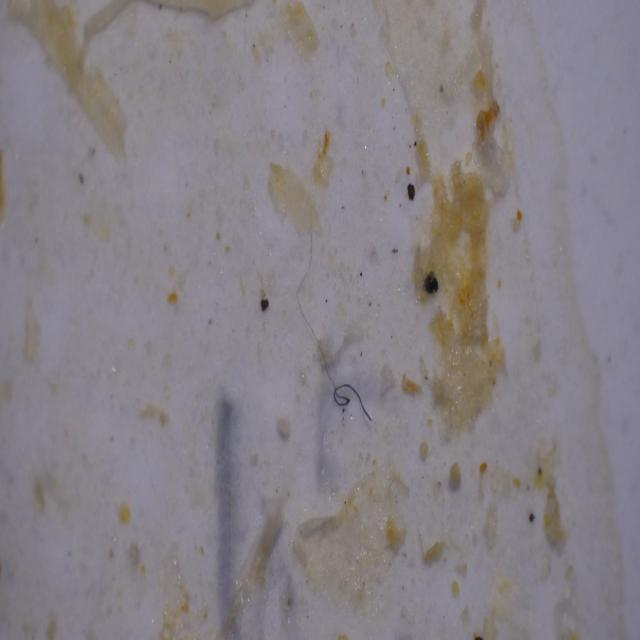fibers: (275, 220, 373, 432)
